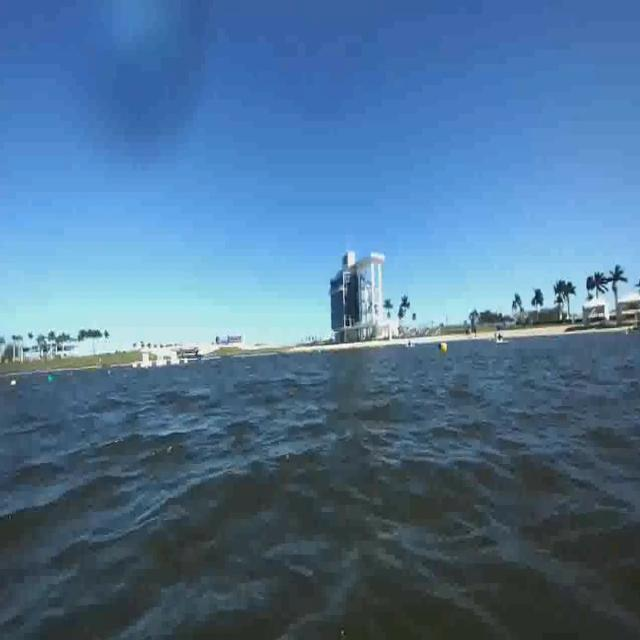yellow-buoy: (442, 342, 450, 355)
